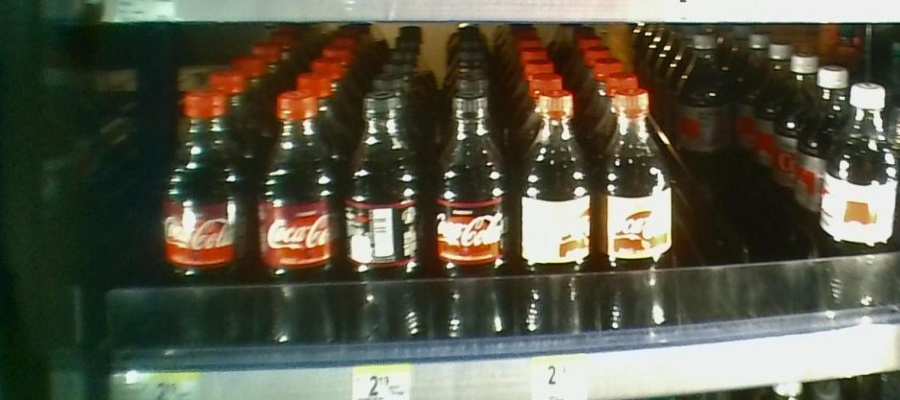bottle: (159, 81, 252, 353), (342, 85, 429, 355), (587, 77, 673, 338), (256, 90, 339, 354), (433, 88, 514, 352), (517, 81, 588, 341), (822, 82, 898, 314), (678, 39, 733, 173)
